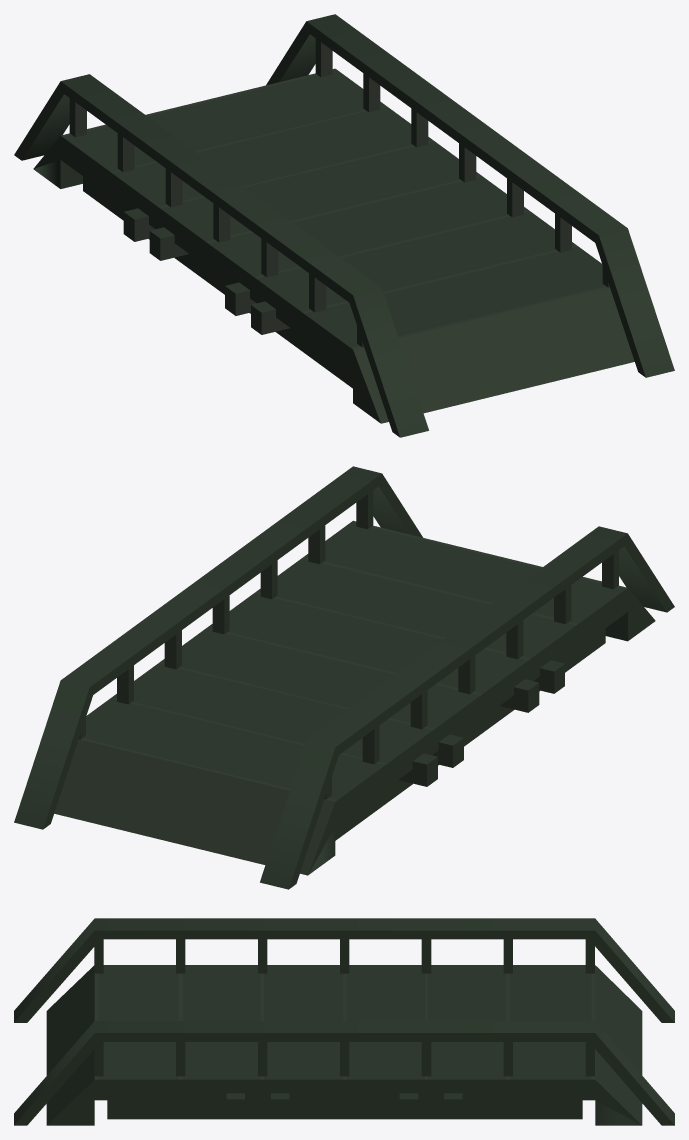
Rendered from SF_Bld_Elven_Bridge_02.glb.
3 renders of one model, top to bottom at view 1: azimuth 30°, elevation 25°; view 2: azimuth 150°, elevation 25°; view 3: azimuth 270°, elevation 25°, orthographic. The views are drawn at different scales.
Parts seen in each view (by area): view 1: SF_Bld_Elven_Bridge_02; view 2: SF_Bld_Elven_Bridge_02; view 3: SF_Bld_Elven_Bridge_02.
Part boxes in pixels (left/top/right/bottom): SF_Bld_Elven_Bridge_02: left=14, top=14, right=674, bottom=437; SF_Bld_Elven_Bridge_02: left=14, top=466, right=674, bottom=889; SF_Bld_Elven_Bridge_02: left=14, top=918, right=674, bottom=1125.
Size of the model in its own units: 0.0738 by 0.0251 by 0.1628.
1 material, 1 textured.
